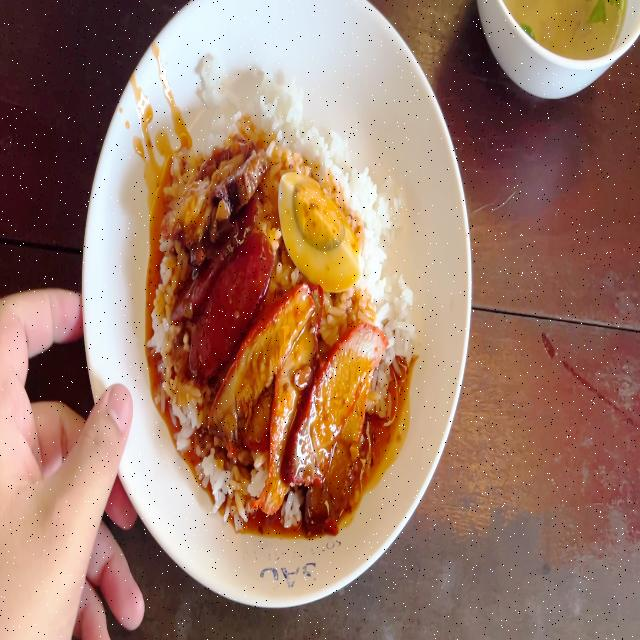boiled_egg: (279, 168, 362, 296)
chainese_sausage: (178, 230, 267, 362)
crispy_pork: (166, 149, 264, 239)
red_pork: (235, 304, 372, 478)
red_pork_and_crispy_pork: (158, 82, 397, 505)
rice: (237, 82, 325, 158), (365, 218, 414, 336)
